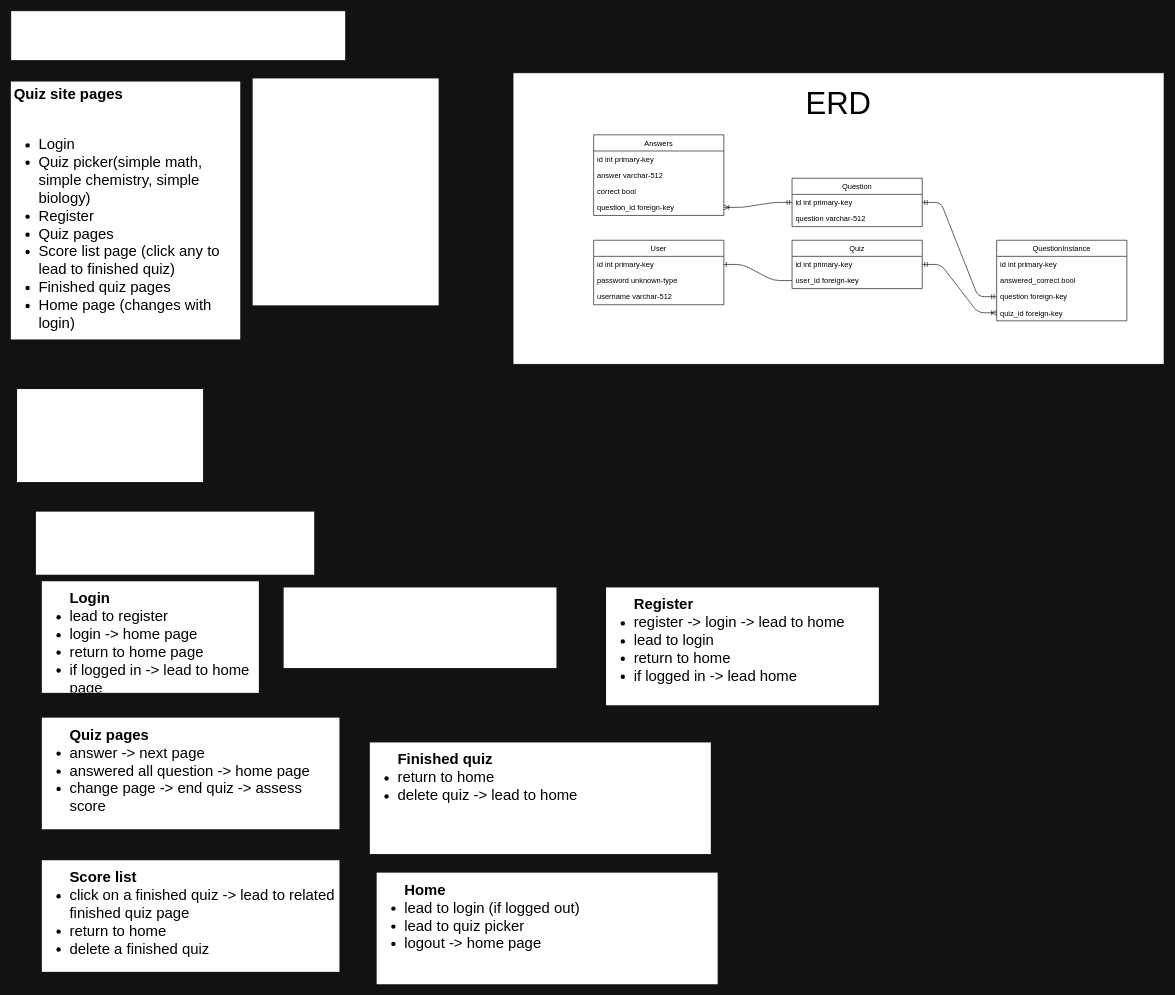
Some shapes in this 1175 by 995 pixel diagram are drawn without their labels. Here are the shapes that lost their labels. From the top down, the centre of each, then its label:
At point (178, 35): "Django practice 01".
At point (345, 191): "site-unrelated file quiz-loader.py new-quiz.csv".
At point (110, 435): "external libraries bootstrap 4".
At point (175, 543): "Usecase".
At point (419, 627): "Quiz picker return to home pick subject -> lead to quiz pages".
